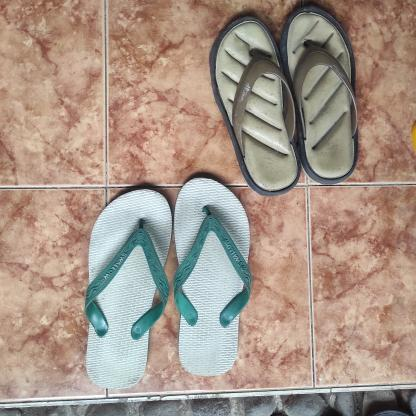Brown Flip Flop: (209, 16, 301, 197), (284, 3, 362, 184)
Green Swallow: (84, 174, 174, 392), (172, 175, 253, 378)
